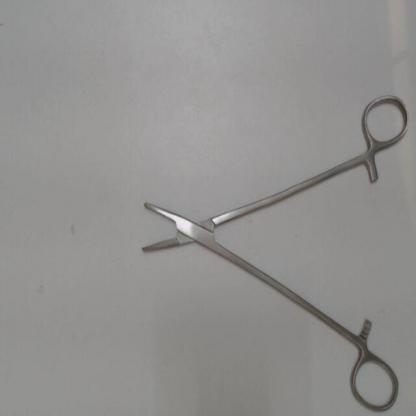8 Mayo Needle Holder: (134, 88, 413, 415)
